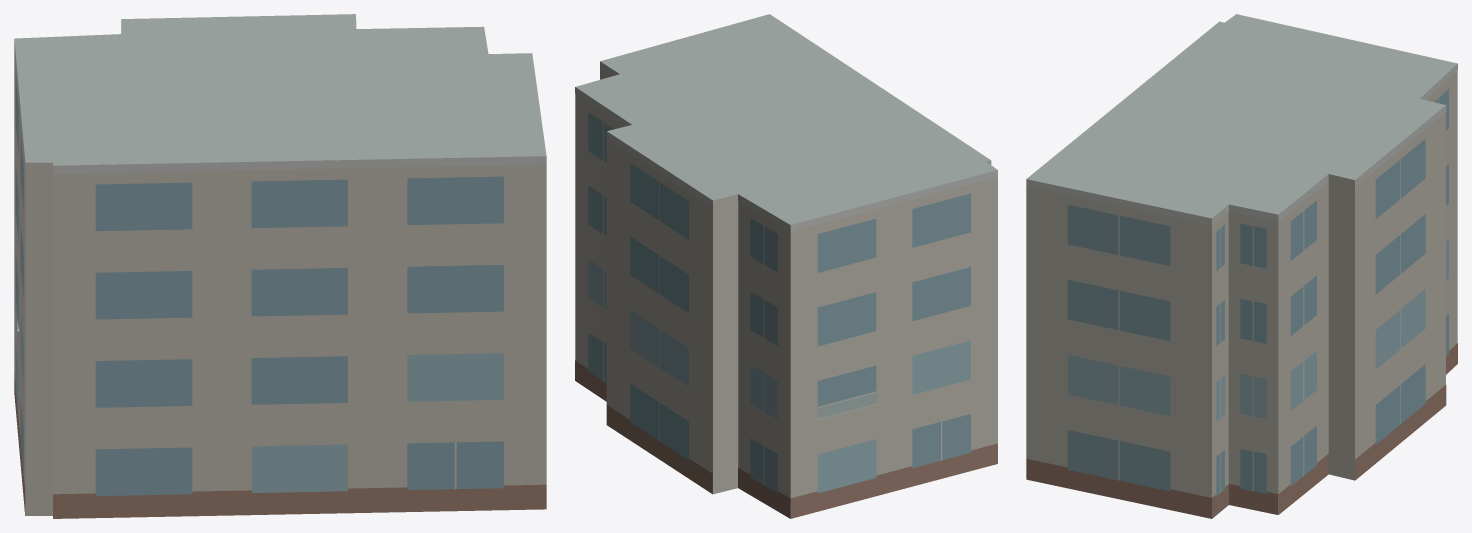
The model's file is survey-upis-32892554.glb.
3 views of the same model, side by side, from view 1: azimuth 30°, elevation 25°; view 2: azimuth 150°, elevation 25°; view 3: azimuth 270°, elevation 25° (orthographic). The views are drawn at different scales.
Visible parts, largest first — view 1: survey-upis-32892554.tmp; view 2: survey-upis-32892554.tmp; view 3: survey-upis-32892554.tmp.
Boxes of the visible parts, x1=… form: survey-upis-32892554.tmp: x1=14, y1=14, x2=546, y2=518; survey-upis-32892554.tmp: x1=575, y1=14, x2=997, y2=518; survey-upis-32892554.tmp: x1=1026, y1=14, x2=1457, y2=518.
Bounding box in the file's own units: 15.33 × 10.5 × 13.68.
